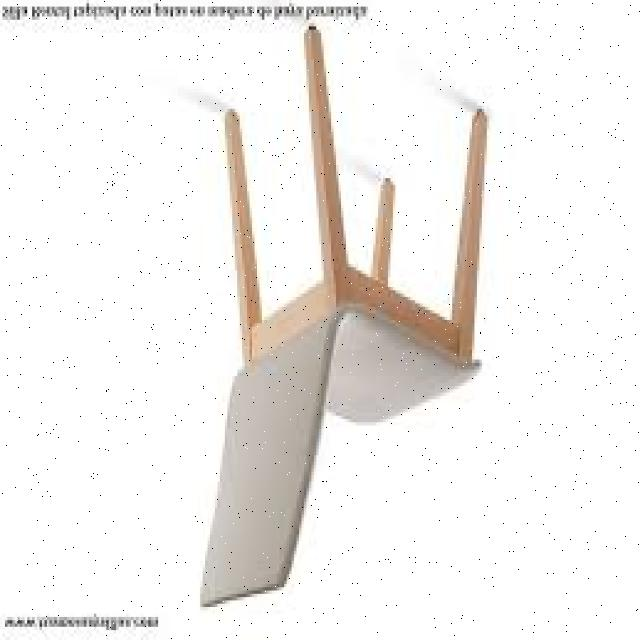bottle: (196, 20, 488, 615)
